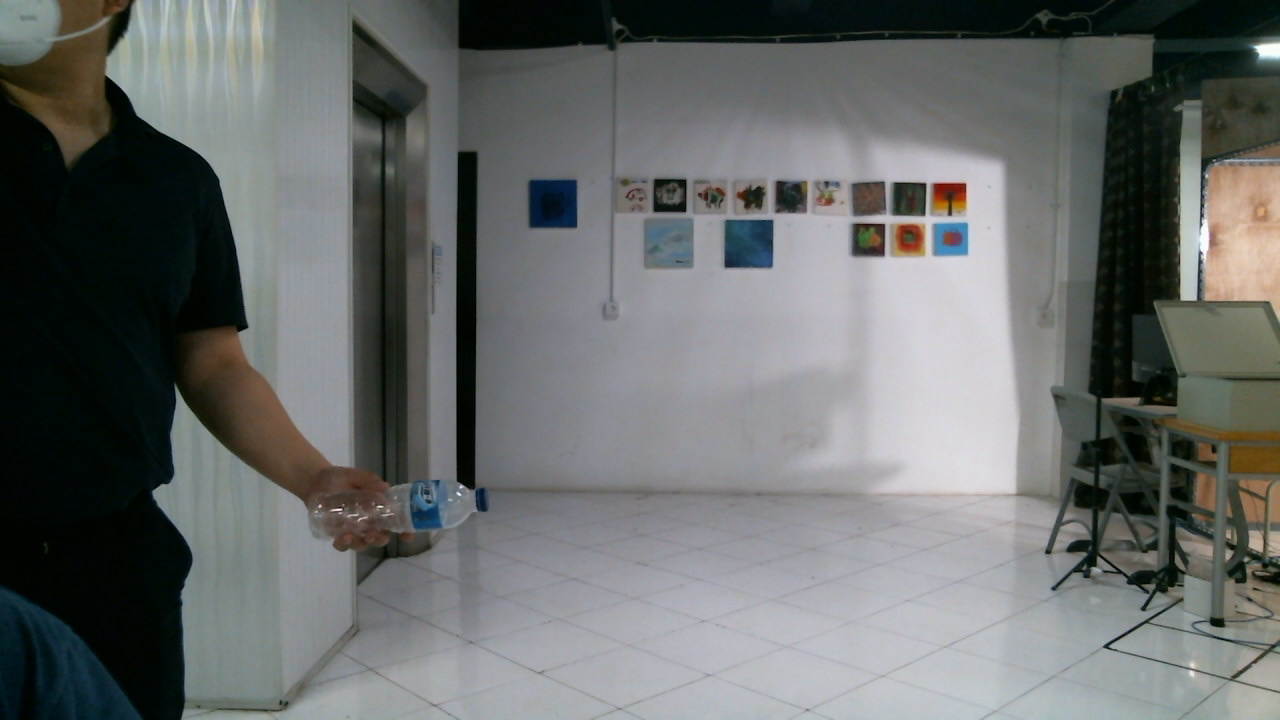Bottle: (308, 479, 489, 541)
